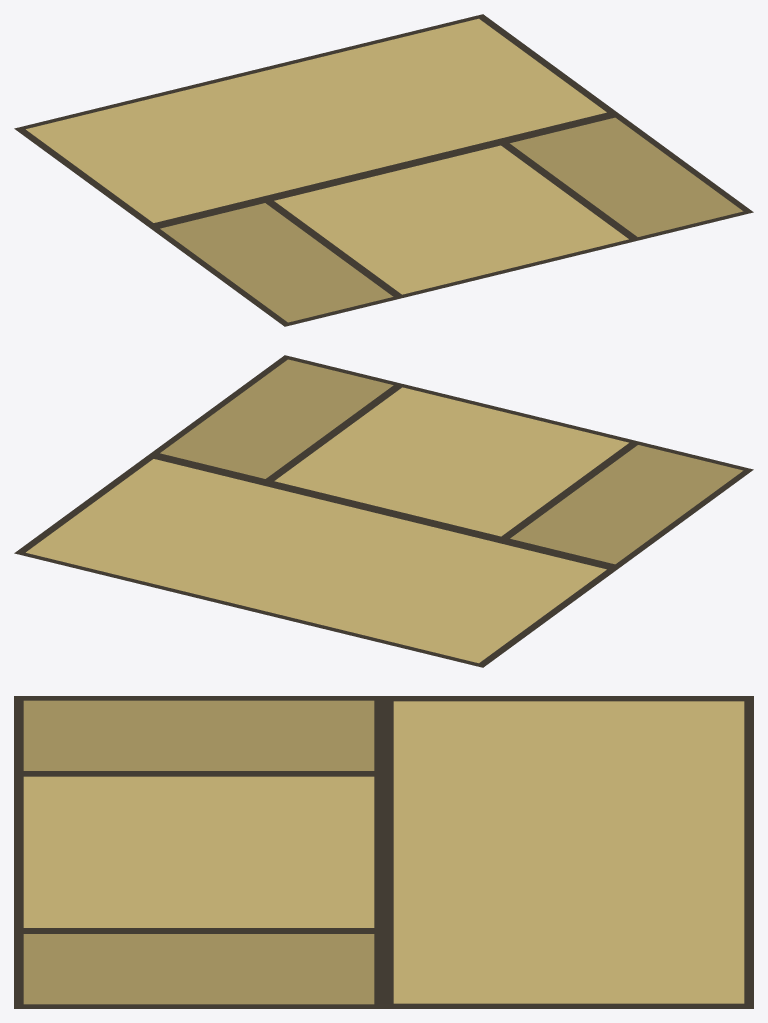
Rendered from DojoFloor.fbx.
The picture shows the model from 3 angles, top to bottom: view 1: azimuth 30°, elevation 25°; view 2: azimuth 150°, elevation 25°; view 3: azimuth 270°, elevation 25°; orthographic projection. The views are drawn at different scales.
Parts seen in each view (by area): view 1: DojoTatami; view 2: DojoTatami; view 3: DojoTatami.
Boxes of the visible parts, x1,y1,x2,y2 form: DojoTatami: (14,14,753,326); DojoTatami: (14,355,753,667); DojoTatami: (14,696,753,1008).
Bounding box in the file's own units: 24 × 0 × 24.
